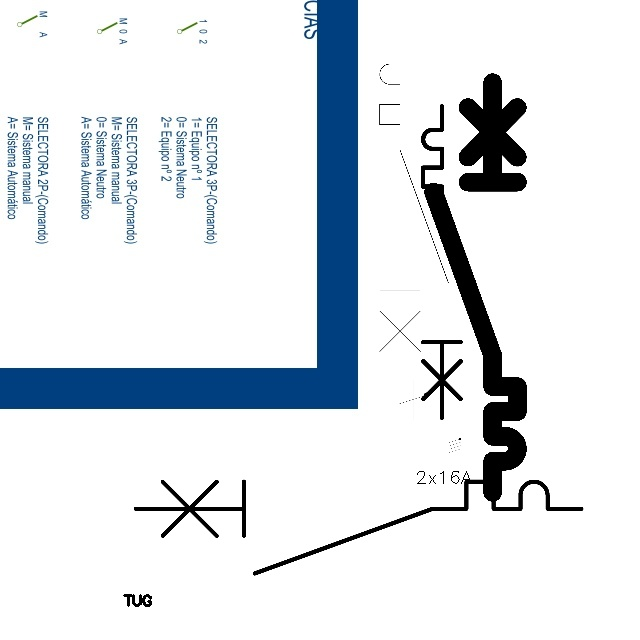interruptor_termomagnetico: (124, 470, 593, 585), (423, 72, 528, 503), (371, 30, 456, 380), (415, 98, 495, 426)
